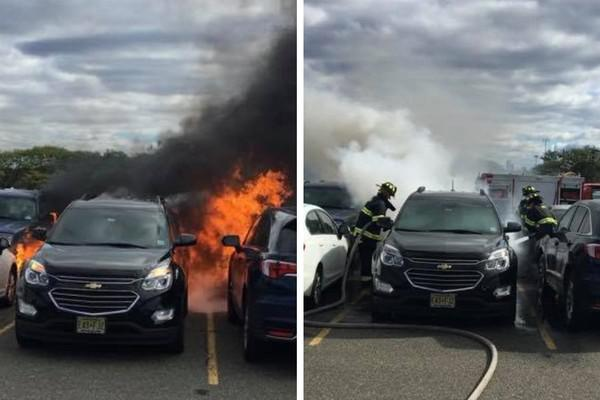car: (16, 188, 195, 369), (368, 180, 528, 338), (231, 198, 295, 372), (544, 179, 600, 348), (305, 186, 352, 328)
